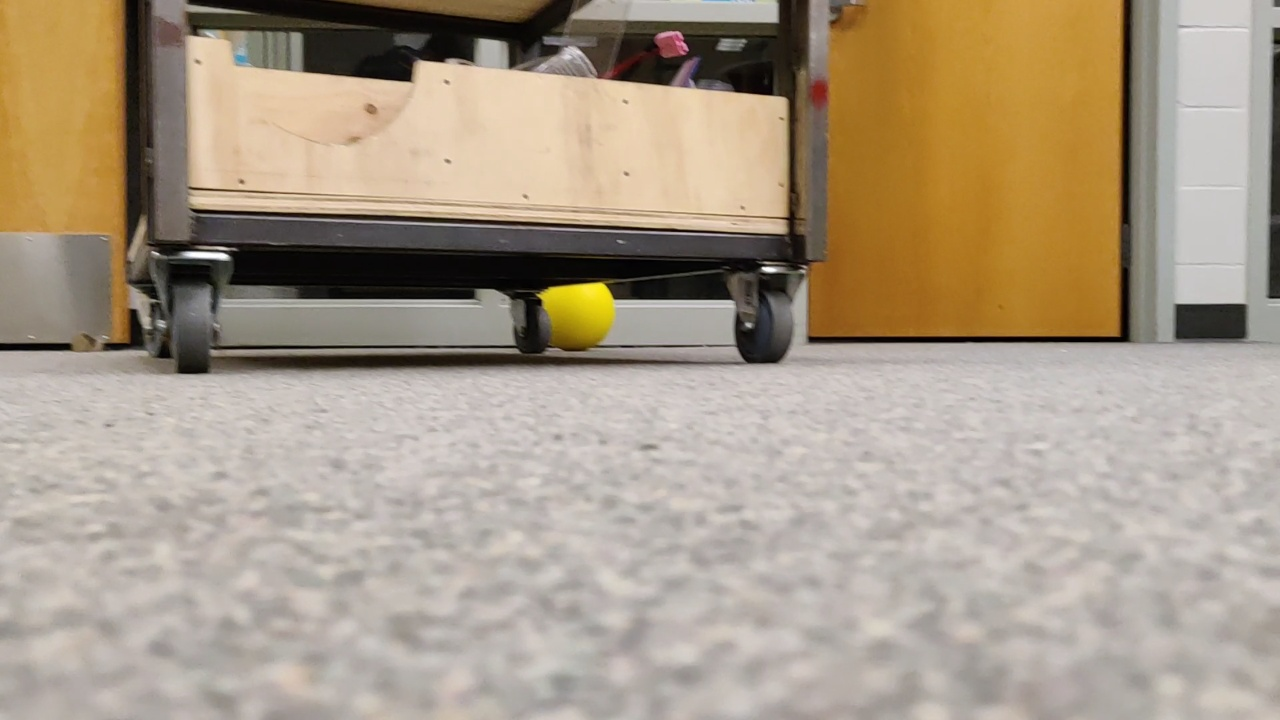Ball: (491, 277, 630, 343)
